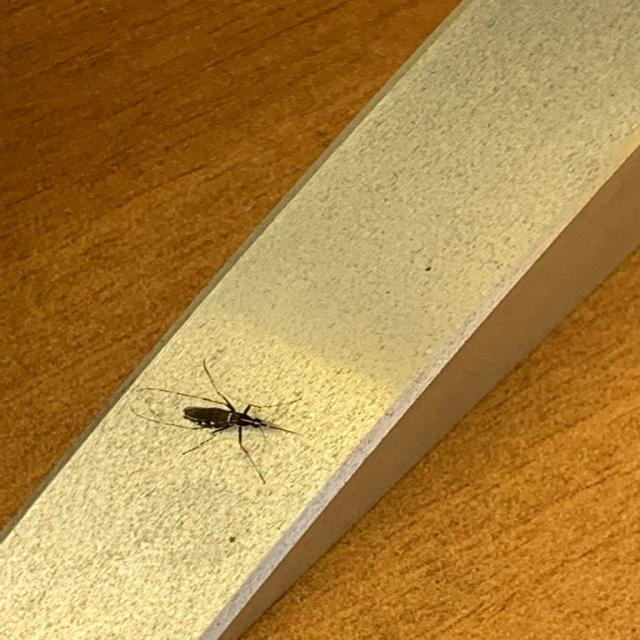albopictus: (131, 355, 312, 489)
